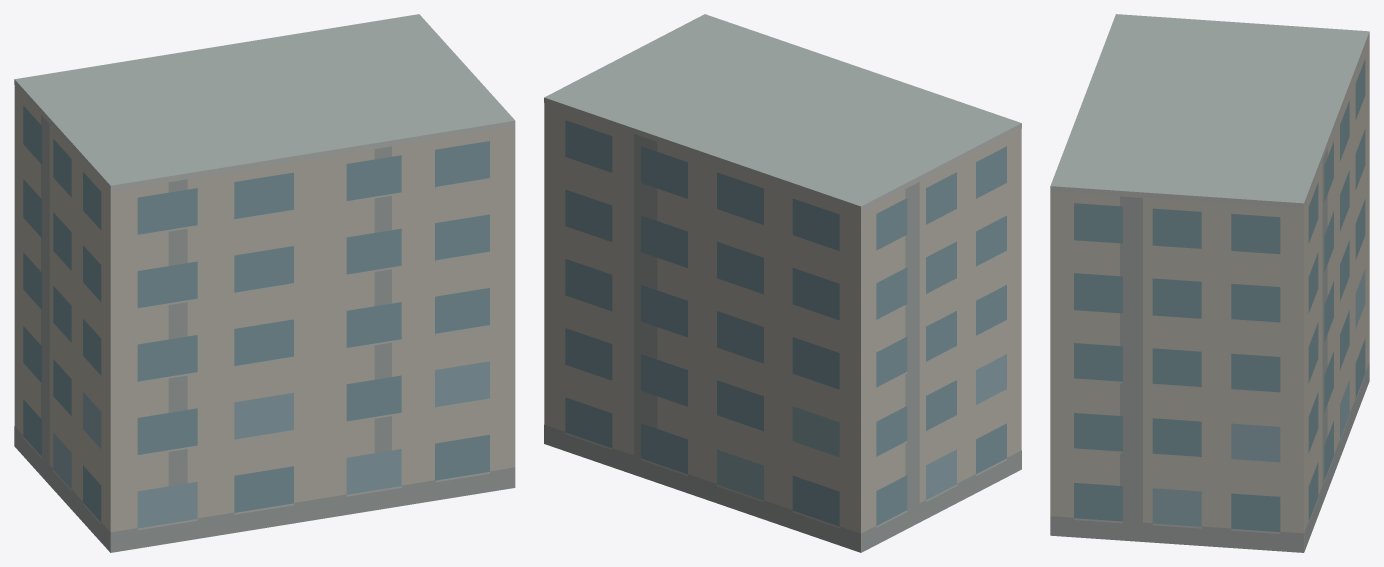
File: residential-dc8b44ac-b4a8-4e89-8981-f6be91e4d364.glb
3 views of the same model, side by side, from view 1: azimuth 30°, elevation 25°; view 2: azimuth 150°, elevation 25°; view 3: azimuth 270°, elevation 25° (orthographic). The views are drawn at different scales.
Visible parts, largest first — view 1: residential-dc8b44ac-b4a8-4e89-8981-f6be91e4d364.tmp; view 2: residential-dc8b44ac-b4a8-4e89-8981-f6be91e4d364.tmp; view 3: residential-dc8b44ac-b4a8-4e89-8981-f6be91e4d364.tmp.
Part boxes in pixels (x1,y1,x2,y2): residential-dc8b44ac-b4a8-4e89-8981-f6be91e4d364.tmp: (14, 14, 515, 552); residential-dc8b44ac-b4a8-4e89-8981-f6be91e4d364.tmp: (544, 14, 1021, 552); residential-dc8b44ac-b4a8-4e89-8981-f6be91e4d364.tmp: (1050, 14, 1369, 552).
Size of the model in its own units: 17.72 by 15.25 by 12.64.
